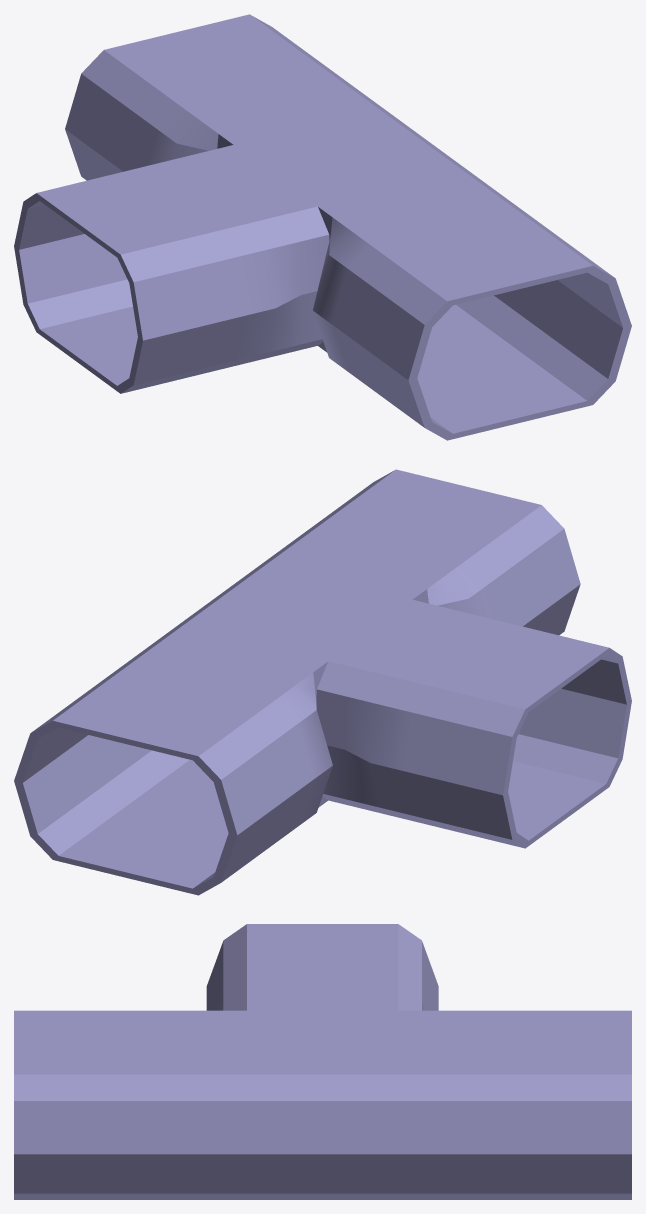
The model's file is base_corridorT_empty.fbx.
3 renders of one model, top to bottom at view 1: azimuth 30°, elevation 25°; view 2: azimuth 150°, elevation 25°; view 3: azimuth 270°, elevation 25°, orthographic. The views are drawn at different scales.
Parts seen in each view (by area): view 1: base_corridorT_chunk; view 2: base_corridorT_chunk; view 3: base_corridorT_chunk.
Boxes of the visible parts, x1,y1,x2,y2 form: base_corridorT_chunk: [14, 14, 631, 440]; base_corridorT_chunk: [14, 469, 631, 895]; base_corridorT_chunk: [14, 924, 631, 1199].
Size of the model in its own units: 85.76 by 29.91 by 134.
